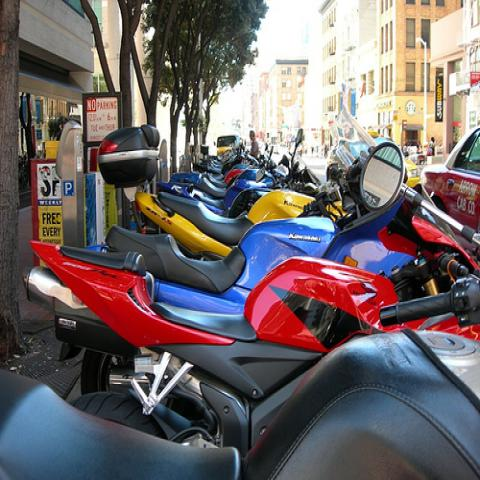car: (420, 128, 479, 234), (214, 136, 238, 156)
motorcycle: (18, 142, 479, 453), (0, 274, 479, 475), (100, 164, 366, 302), (136, 186, 345, 262), (156, 128, 320, 218), (196, 147, 274, 187), (170, 171, 248, 199), (213, 140, 238, 166), (208, 155, 238, 168), (216, 155, 222, 161)
